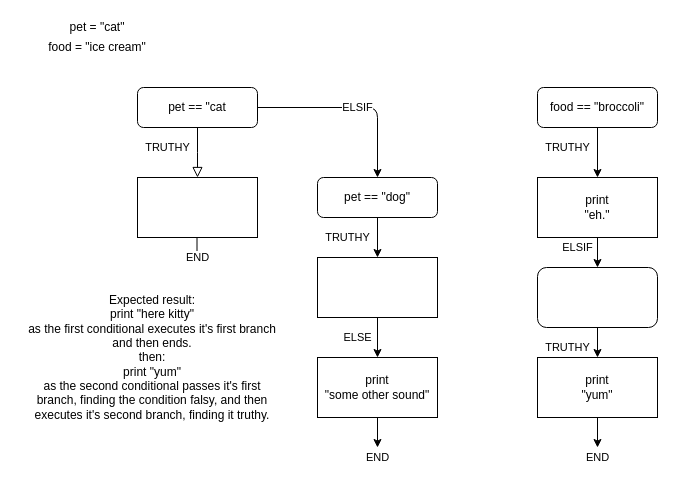
The diagram is 675 pixels wide and 481 high, and some of its shapes have lost their labels. Each missing label, with the centre of its shape:
food == "ice cream": point 597,297
print "here kitty": point 197,207
print "woof": point 377,287
